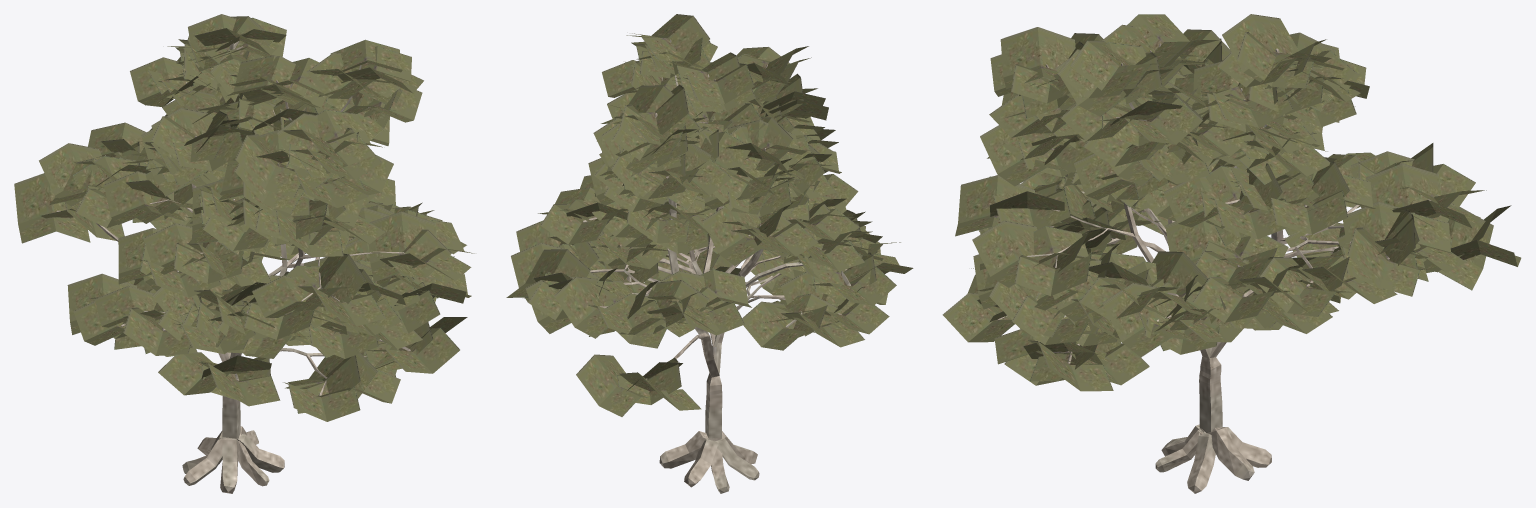
The model's file is tree_1.obj.
3 renders of one model, left to right at view 1: azimuth 30°, elevation 25°; view 2: azimuth 150°, elevation 25°; view 3: azimuth 270°, elevation 25°, orthographic. The views are drawn at different scales.
Visible parts, largest first — view 1: Sonnerat; view 2: Sonnerat; view 3: Sonnerat.
Boxes of the visible parts, left/top/right/bottom form: Sonnerat: left=14, top=14, right=474, bottom=493; Sonnerat: left=506, top=14, right=913, bottom=493; Sonnerat: left=942, top=14, right=1521, bottom=493.
Bounding box in the file's own units: 0.9316 × 1.07 × 1.18.
Materials: 1 (1 with a texture image).
